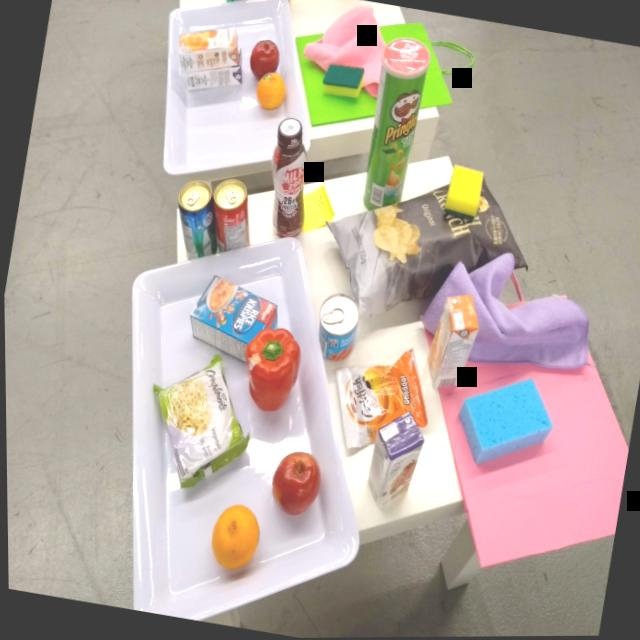apple: (263, 447, 325, 522), (244, 33, 286, 86)
cereal: (179, 268, 285, 370)
chocolate_drink: (253, 113, 325, 246)
coke: (202, 174, 263, 262)
crackers: (319, 334, 440, 467)
grape_juice: (356, 406, 429, 517)
noodles: (132, 338, 263, 503)
orange: (171, 14, 247, 87), (201, 494, 267, 577), (250, 66, 291, 117)
orange_juice: (414, 287, 485, 398)
paprika: (232, 319, 308, 420)
pringles: (352, 31, 438, 222)
sausages: (307, 289, 364, 364)
scrubby: (437, 157, 493, 223), (316, 59, 368, 105)
sponge_opl: (446, 360, 562, 476)
sprite: (164, 174, 231, 269)
